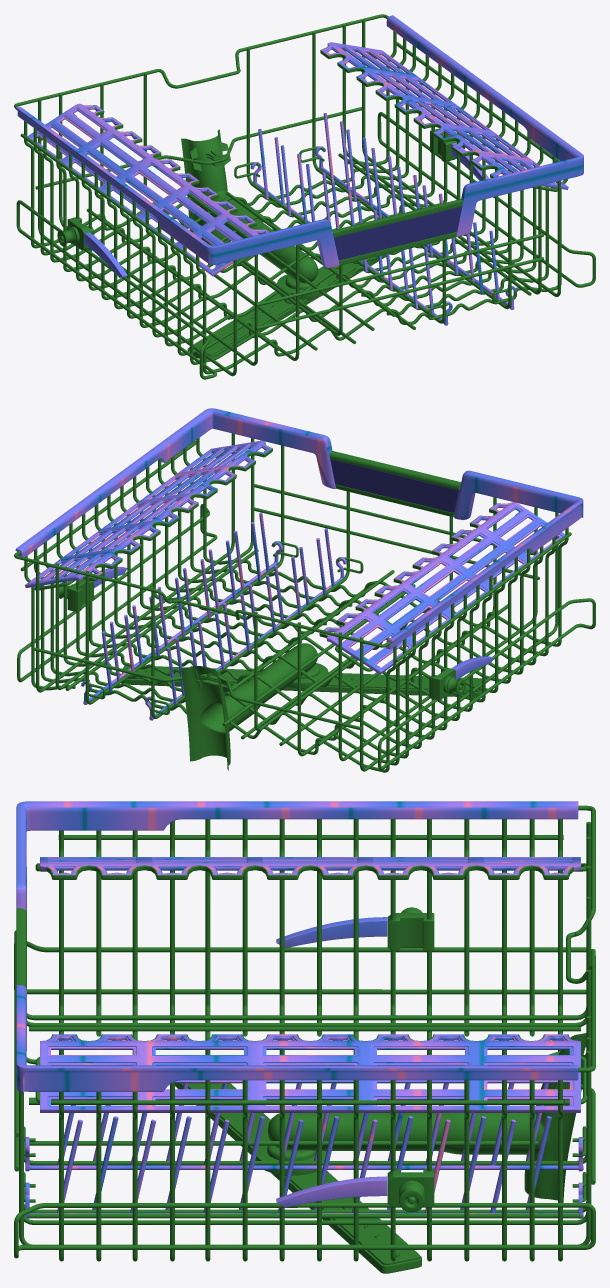
The model's file is SM_Dishwasher_Tray_02.fbx.
The picture shows the model from 3 angles, top to bottom: view 1: azimuth 30°, elevation 25°; view 2: azimuth 150°, elevation 25°; view 3: azimuth 270°, elevation 25°; orthographic projection. The views are drawn at different scales.
Visible parts, largest first — view 1: SM_Dishwasher_Tray_02; view 2: SM_Dishwasher_Tray_02; view 3: SM_Dishwasher_Tray_02.
Part boxes in pixels (box(x1,y1,x2,y2)): SM_Dishwasher_Tray_02: box(14, 14, 595, 379); SM_Dishwasher_Tray_02: box(14, 408, 595, 772); SM_Dishwasher_Tray_02: box(14, 801, 595, 1273).
Bounding box in the file's own units: 53.58 × 22.39 × 46.38.
4 materials, 2 textured.
